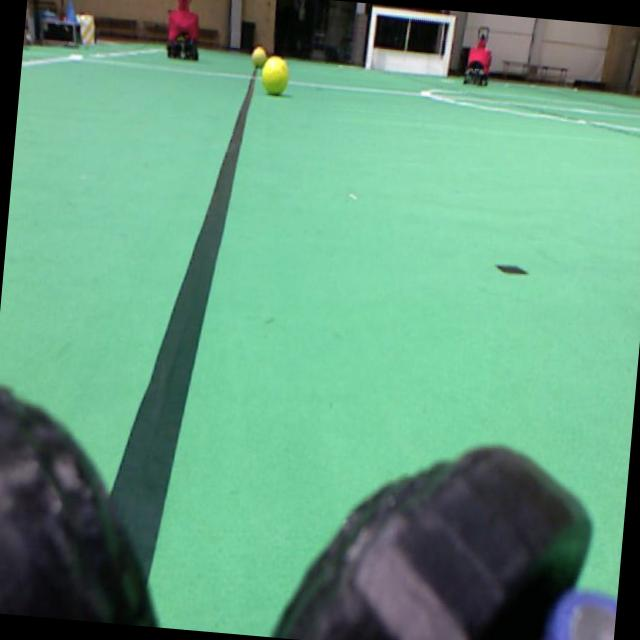ball: (261, 56, 287, 94), (251, 45, 266, 67)
goal: (364, 6, 377, 69), (442, 16, 455, 76)
